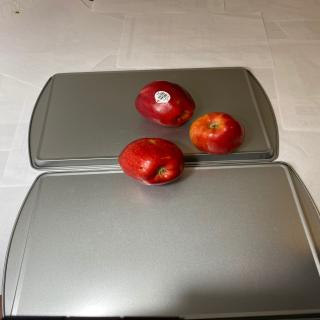Apple: (118, 137, 185, 186), (135, 80, 195, 127), (189, 112, 245, 155)
